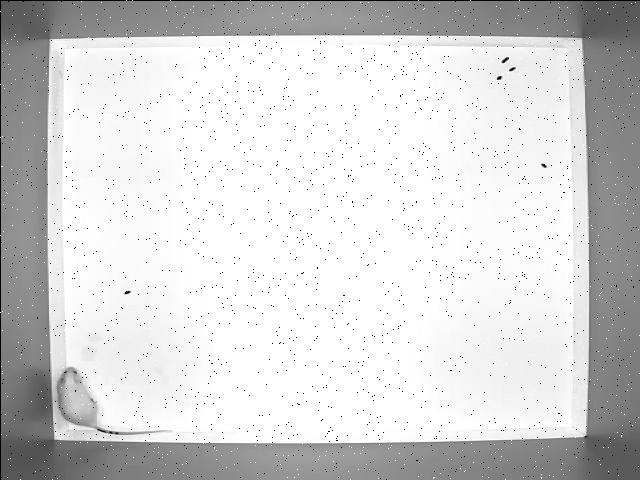Tikus: (52, 366, 172, 438)
